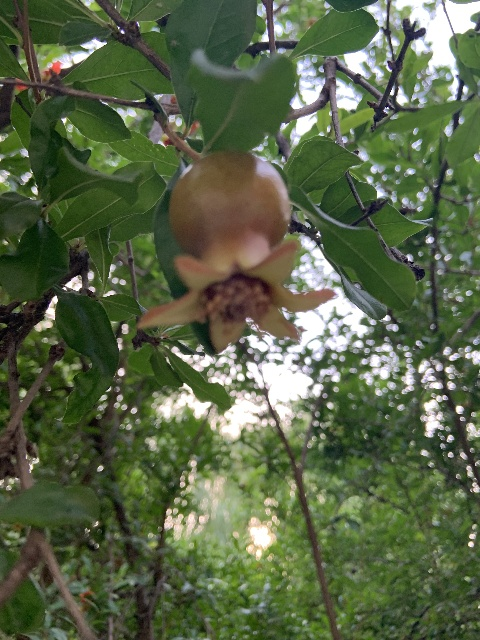early-fruit: (136, 153, 336, 353)
